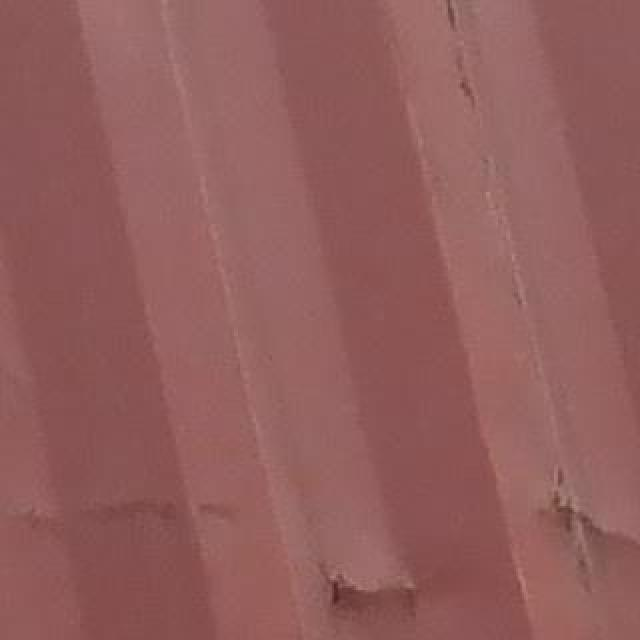dent: (311, 463, 640, 639)
